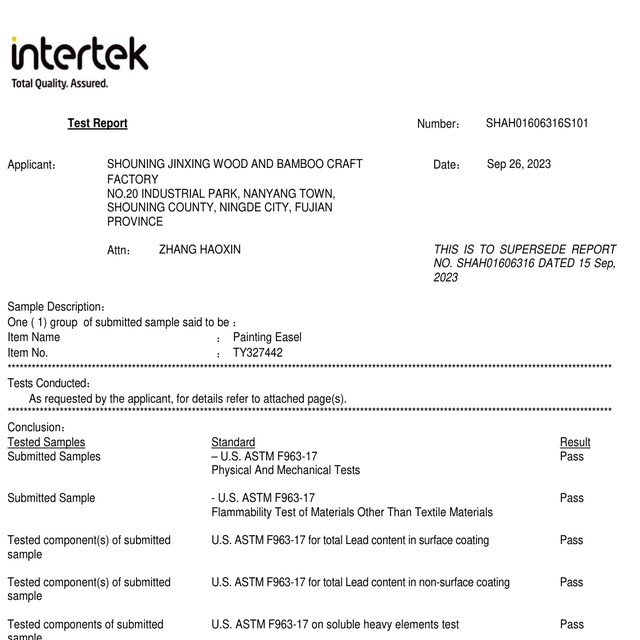intertek: (0, 28, 153, 78)
